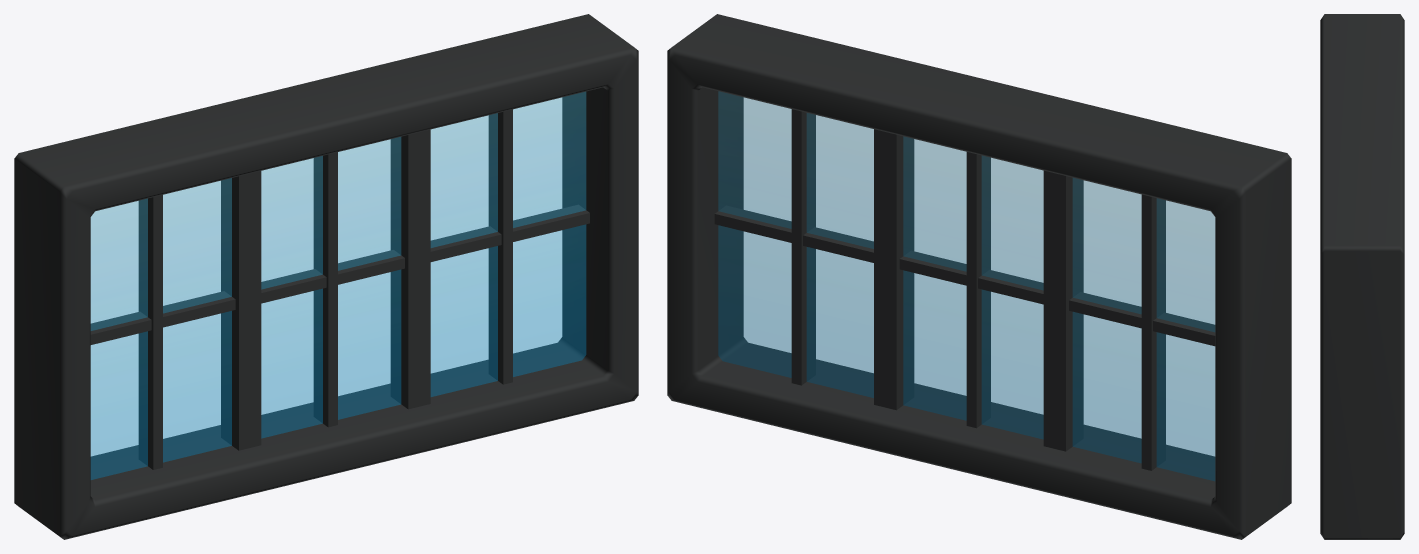
File: Window_Black_01.glb
3 renders of one model, left to right at view 1: azimuth 30°, elevation 25°; view 2: azimuth 150°, elevation 25°; view 3: azimuth 270°, elevation 25°, orthographic. The views are drawn at different scales.
Visible parts, largest first — view 1: Window_Black_01; view 2: Window_Black_01; view 3: Window_Black_01.
Boxes of the visible parts, left/top/right/bottom form: Window_Black_01: left=14, top=14, right=638, bottom=539; Window_Black_01: left=667, top=14, right=1291, bottom=539; Window_Black_01: left=1320, top=14, right=1404, bottom=539.
Size of the model in its own units: 2.64 by 1.54 by 0.4.
2 materials, 2 textured.
